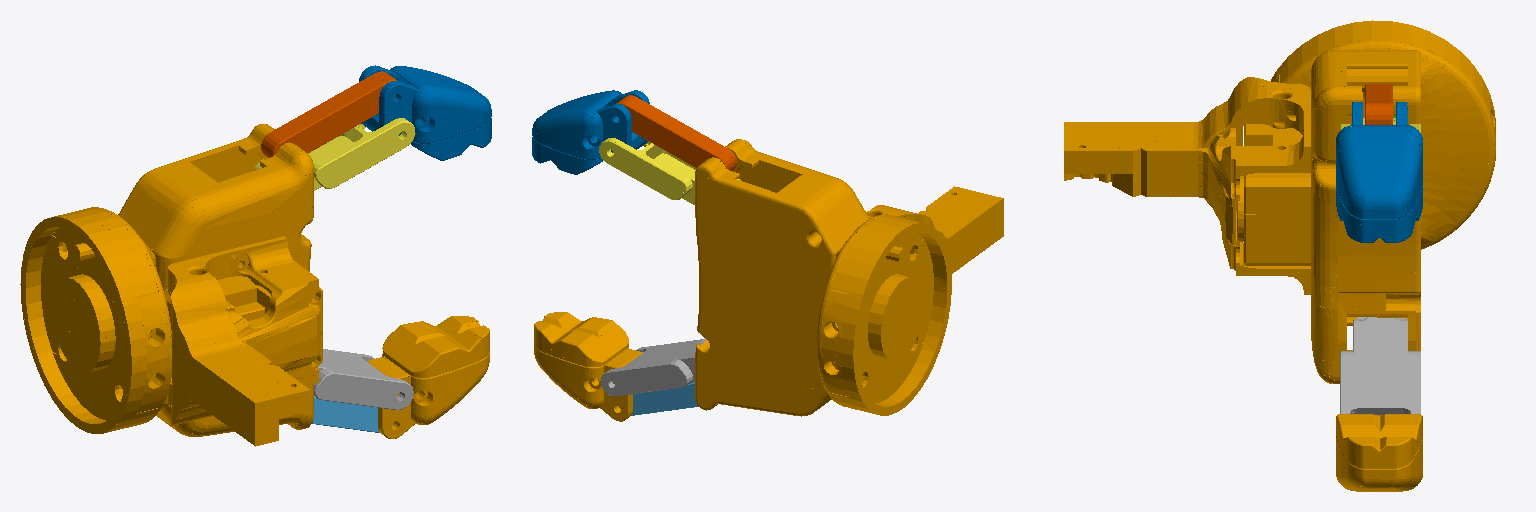
URDF robot description (pincopen_try3):
<?xml version="1.0"?>
<!-- GENERATED by build_pincopen.py (gripper revision try3). TREE ONLY: closed loops (dr_ir_*: dr_L/R <-> ir_L/R, or_tip_*: or_L/R <-> tip_L/R)
     cannot be expressed in URDF; see pincopen_meta.json "loop_closures"; pincopen.xml has them as MuJoCo connect constraints.
     Planar mechanism in the x-z plane, every joint revolute about -Y, link frames world-aligned at the pivots, units m. -->
<robot name="pincopen_try3">
  <link name="base_link"><inertial><origin xyz="0.000000 0.000000 0.000000"/><mass value="0.183910"/><inertia ixx="1.0000e-04" ixy="0.0000e+00" ixz="0.0000e+00" iyy="1.0000e-04" iyz="0.0000e+00" izz="1.0000e-04"/></inertial><visual><origin xyz="-0.000000 -0.000000 -0.000000"/><geometry><mesh filename="meshes/Bottom_Plate-1.stl"/></geometry></visual><visual><origin xyz="-0.000000 -0.000000 -0.000000"/><geometry><mesh filename="meshes/Top_Plate-1.stl"/></geometry></visual><visual><origin xyz="-0.000000 -0.000000 -0.000000"/><geometry><mesh filename="meshes/Part1-2.stl"/></geometry></visual><visual><origin xyz="-0.000000 -0.000000 -0.000000"/><geometry><mesh filename="meshes/Mount_ARM-1.stl"/></geometry></visual><visual><origin xyz="-0.000000 -0.000000 -0.000000"/><geometry><mesh filename="meshes/XMH430_mount-1.stl"/></geometry></visual><visual><origin xyz="-0.000000 -0.000000 -0.000000"/><geometry><mesh filename="meshes/DUMMY_DC12_stp-1.stl"/></geometry></visual></link>
  <link name="cam"><inertial><origin xyz="0.000039 -0.000947 -0.000009"/><mass value="0.004599"/><inertia ixx="3.3424e-07" ixy="-1.3391e-10" ixz="7.3185e-09" iyy="6.2809e-07" iyz="1.1356e-10" izz="3.2627e-07"/></inertial><visual><origin xyz="-0.000000 -0.000000 -0.000000"/><geometry><mesh filename="meshes/Cam-1.stl"/></geometry></visual></link>
  <link name="dr_L"><inertial><origin xyz="0.000707 0.004851 0.017435"/><mass value="0.001652"/><inertia ixx="2.1481e-07" ixy="8.1579e-12" ixz="-4.7488e-08" iyy="2.4180e-07" iyz="1.8791e-11" izz="3.3847e-08"/></inertial><visual><origin xyz="0.009300 -0.000000 0.005800"/><geometry><mesh filename="meshes/Driving_Rod-1.stl"/></geometry></visual></link>
  <link name="ir_L"><inertial><origin xyz="0.016318 -0.000149 0.004350"/><mass value="0.005560"/><inertia ixx="4.5400e-07" ixy="1.4770e-10" ixz="-4.0971e-07" iyy="1.6318e-06" iyz="5.4834e-11" izz="1.7589e-06"/></inertial><visual><origin xyz="-0.013500 -0.000000 -0.031100"/><geometry><mesh filename="meshes/Internal_Rod-2.stl"/></geometry></visual></link>
  <link name="tip_L"><inertial><origin xyz="0.015367 -0.000452 -0.000813"/><mass value="0.012199"/><inertia ixx="1.0634e-06" ixy="-6.5189e-11" ixz="3.4853e-07" iyy="1.8186e-06" iyz="1.6279e-10" izz="1.8119e-06"/></inertial><visual><origin xyz="-0.056300 -0.000000 -0.044200"/><geometry><mesh filename="meshes/Distal_Rod-1.stl"/></geometry></visual><visual><origin xyz="-0.056300 -0.000000 -0.044200"/><geometry><mesh filename="meshes/Distal_Shell-2.stl"/></geometry></visual><visual><origin xyz="-0.056300 -0.000000 -0.044200"/><geometry><mesh filename="meshes/Tip_Support-2.stl"/></geometry></visual><visual><origin xyz="-0.056300 -0.000000 -0.044200"/><geometry><mesh filename="meshes/Removable_Tip-2.stl"/></geometry></visual></link>
  <link name="or_L"><inertial><origin xyz="0.019098 -0.000648 0.005850"/><mass value="0.003246"/><inertia ixx="8.6087e-08" ixy="-1.6912e-15" ixz="-1.5405e-07" iyy="5.9376e-07" iyz="2.5129e-15" izz="5.4211e-07"/></inertial><visual><origin xyz="-0.018100 -0.000000 -0.044000"/><geometry><mesh filename="meshes/External_Rod-2.stl"/></geometry></visual></link>
  <link name="dr_R"><inertial><origin xyz="-0.003049 0.004851 -0.017208"/><mass value="0.001652"/><inertia ixx="1.9893e-07" ixy="-1.0604e-11" ixz="-6.9838e-08" iyy="2.4180e-07" iyz="-1.7526e-11" izz="4.9731e-08"/></inertial><visual><origin xyz="-0.009500 -0.000000 -0.005600"/><geometry><mesh filename="meshes/Driving_Rod-2.stl"/></geometry></visual></link>
  <link name="ir_R"><inertial><origin xyz="0.016351 -0.000147 -0.005255"/><mass value="0.005560"/><inertia ixx="4.9919e-07" ixy="-1.4448e-10" ixz="4.7412e-07" iyy="1.6318e-06" iyz="6.2342e-11" izz="1.7137e-06"/></inertial><visual><origin xyz="-0.013300 -0.000000 0.030800"/><geometry><mesh filename="meshes/Internal_Rod-1.stl"/></geometry></visual></link>
  <link name="tip_R"><inertial><origin xyz="0.015319 -0.000445 0.000865"/><mass value="0.012199"/><inertia ixx="1.0634e-06" ixy="6.5513e-11" ixz="-3.4853e-07" iyy="1.8186e-06" iyz="1.6271e-10" izz="1.8119e-06"/></inertial><visual><origin xyz="-0.055700 -0.000000 0.046200"/><geometry><mesh filename="meshes/Distal_Rod-2.stl"/></geometry></visual><visual><origin xyz="-0.055700 -0.000000 0.046200"/><geometry><mesh filename="meshes/Distal_Shell-1.stl"/></geometry></visual><visual><origin xyz="-0.055700 -0.000000 0.046200"/><geometry><mesh filename="meshes/Tip_Support-1.stl"/></geometry></visual><visual><origin xyz="-0.055700 -0.000000 0.046200"/><geometry><mesh filename="meshes/Removable_Tip-1.stl"/></geometry></visual></link>
  <link name="or_R"><inertial><origin xyz="0.018774 -0.000648 -0.006829"/><mass value="0.003246"/><inertia ixx="1.0299e-07" ixy="-4.3040e-16" ixz="1.7650e-07" iyy="5.9376e-07" iyz="-1.2102e-15" izz="5.2521e-07"/></inertial><visual><origin xyz="-0.018100 -0.000000 0.044000"/><geometry><mesh filename="meshes/External_Rod-1.stl"/></geometry></visual></link>
  <joint name="cam_joint" type="revolute"><parent link="base_link"/><child link="cam"/><origin xyz="0.000000 0.000000 0.000000" rpy="0 0 0"/><axis xyz="0 -1 0"/><limit lower="-1.24791" upper="0.97738" effort="3" velocity="10"/></joint>
  <joint name="dr_L_joint" type="revolute"><parent link="cam"/><child link="dr_L"/><origin xyz="-0.009300 0.000000 -0.005800" rpy="0 0 0"/><axis xyz="0 -1 0"/><limit lower="-3.14159" upper="3.14159" effort="1" velocity="10"/></joint>
  <joint name="ir_L_joint" type="revolute"><parent link="base_link"/><child link="ir_L"/><origin xyz="0.013500 0.000000 0.031100" rpy="0 0 0"/><axis xyz="0 -1 0"/><limit lower="-3.14159" upper="3.14159" effort="1" velocity="10"/></joint>
  <joint name="tip_L_joint" type="revolute"><parent link="ir_L"/><child link="tip_L"/><origin xyz="0.042800 0.000000 0.013100" rpy="0 0 0"/><axis xyz="0 -1 0"/><limit lower="-3.14159" upper="3.14159" effort="1" velocity="10"/></joint>
  <joint name="or_L_joint" type="revolute"><parent link="base_link"/><child link="or_L"/><origin xyz="0.018100 0.000000 0.044000" rpy="0 0 0"/><axis xyz="0 -1 0"/><limit lower="-3.14159" upper="3.14159" effort="1" velocity="10"/></joint>
  <joint name="dr_R_joint" type="revolute"><parent link="cam"/><child link="dr_R"/><origin xyz="0.009500 0.000000 0.005600" rpy="0 0 0"/><axis xyz="0 -1 0"/><limit lower="-3.14159" upper="3.14159" effort="1" velocity="10"/></joint>
  <joint name="ir_R_joint" type="revolute"><parent link="base_link"/><child link="ir_R"/><origin xyz="0.013300 0.000000 -0.030800" rpy="0 0 0"/><axis xyz="0 -1 0"/><limit lower="-3.14159" upper="3.14159" effort="1" velocity="10"/></joint>
  <joint name="tip_R_joint" type="revolute"><parent link="ir_R"/><child link="tip_R"/><origin xyz="0.042400 0.000000 -0.015400" rpy="0 0 0"/><axis xyz="0 -1 0"/><limit lower="-3.14159" upper="3.14159" effort="1" velocity="10"/></joint>
  <joint name="or_R_joint" type="revolute"><parent link="base_link"/><child link="or_R"/><origin xyz="0.018100 0.000000 -0.044000" rpy="0 0 0"/><axis xyz="0 -1 0"/><limit lower="-3.14159" upper="3.14159" effort="1" velocity="10"/></joint>
</robot>

--- What the picture shows (computed from the rendered views, not written in the file) ---
The picture shows the robot from 3 angles, left to right: view 1: azimuth 30°, elevation 25°; view 2: azimuth 150°, elevation 25°; view 3: azimuth 270°, elevation 25°; orthographic projection.
Robot: pincopen_try3 — 10 links, 9 joints (9 revolute); root link base_link; default pose: every joint at zero.
Visible links, largest first — view 1: base_link, tip_R, tip_L, or_L, ir_L, ir_R, or_R; view 2: base_link, tip_R, tip_L, ir_R, ir_L, or_L, or_R; view 3: base_link, tip_L, ir_R, tip_R, or_L.
Boxes of the visible links, box(x1,y1,x2,y2) form: base_link: box(20, 124, 322, 446); tip_R: box(367, 316, 489, 438); tip_L: box(359, 65, 491, 160); or_L: box(261, 71, 396, 157); ir_L: box(254, 118, 415, 190); ir_R: box(314, 349, 413, 409); or_R: box(312, 397, 392, 432); base_link: box(695, 139, 1003, 416); tip_R: box(534, 312, 642, 421); tip_L: box(532, 90, 649, 174); ir_R: box(601, 339, 706, 395); ir_L: box(599, 138, 740, 204); or_L: box(616, 95, 736, 170); or_R: box(619, 382, 698, 415); base_link: box(1064, 20, 1495, 383); tip_L: box(1336, 102, 1422, 242); ir_R: box(1340, 317, 1420, 414); tip_R: box(1336, 414, 1422, 491); or_L: box(1365, 84, 1392, 124).
Size in the robot's own frame: 0.1482 by 0.127 by 0.1228 metres.
Meshes: 21 distinct files referenced, 21 mesh visuals loaded (21 binary STL).
